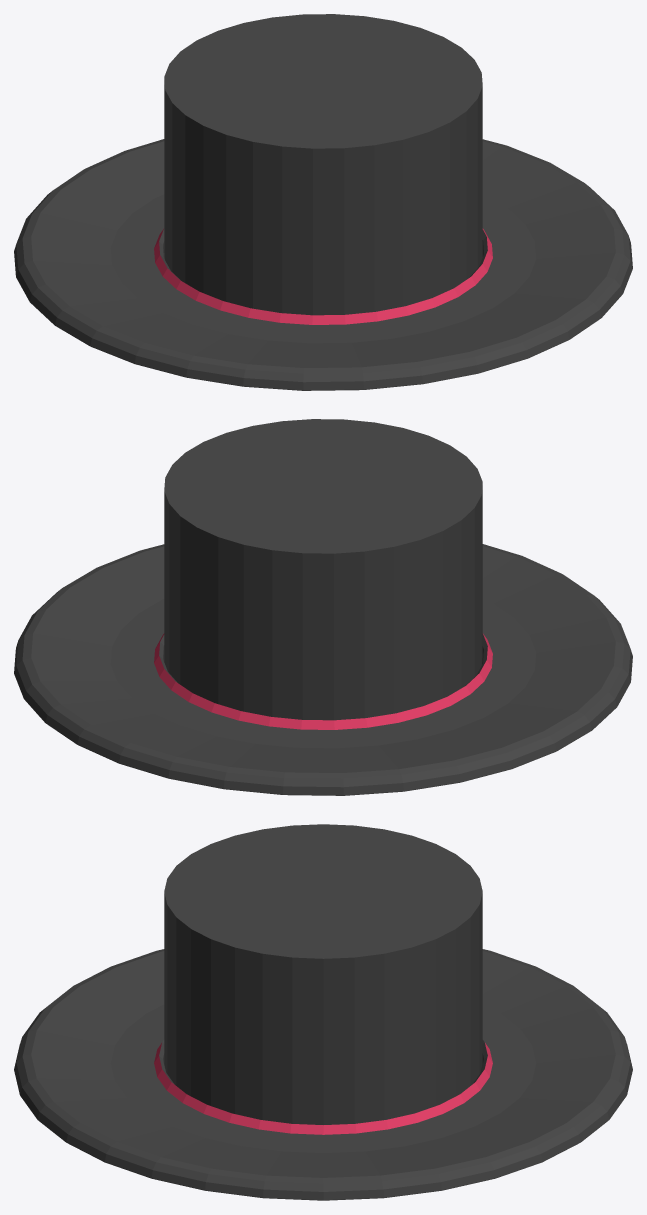
The model's file is Sombrero.fbx.
3 views of the same model, one above another, from view 1: azimuth 30°, elevation 25°; view 2: azimuth 150°, elevation 25°; view 3: azimuth 270°, elevation 25° (orthographic).
Visible parts, largest first — view 1: Sombrero; view 2: Sombrero; view 3: Sombrero.
Boxes of the visible parts, x1,y1,x2,y2 form: Sombrero: (14, 14, 632, 390); Sombrero: (14, 419, 632, 795); Sombrero: (14, 824, 632, 1200).
Bounding box in the file's own units: 11451 × 3641 × 11451.
